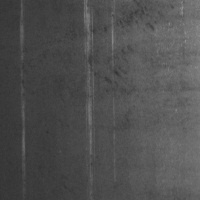scratches: (83, 1, 97, 187), (18, 1, 28, 194)
